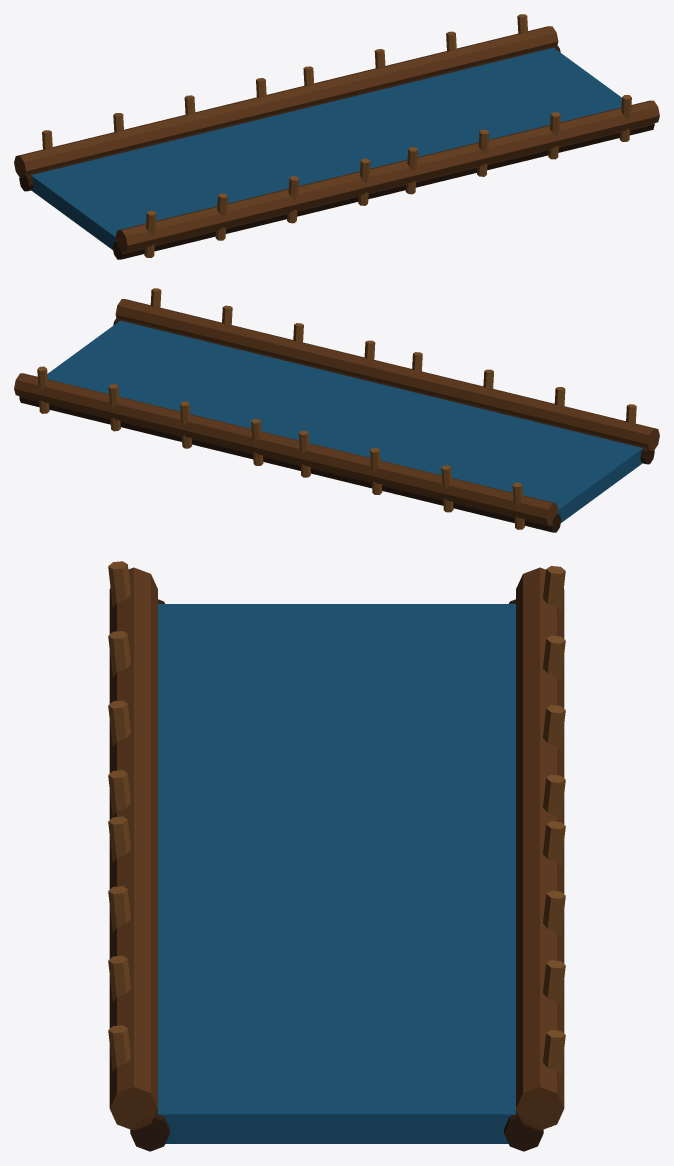
The model's file is ditch.glb.
3 renders of one model, top to bottom at view 1: azimuth 30°, elevation 25°; view 2: azimuth 150°, elevation 25°; view 3: azimuth 270°, elevation 25°, orthographic. The views are drawn at different scales.
Visible parts, largest first — view 1: 큐브, 실린더, 실린더.002, 실린더.001, 실린더.003; view 2: 큐브, 실린더.002, 실린더, 실린더.003, 실린더.001; view 3: 큐브, 실린더, 실린더.002, 실린더.001, 실린더.003.
Boxes of the visible parts, x1,y1,x2,y2 form: 큐브: (31, 47, 621, 249); 실린더: (115, 100, 659, 252); 실린더.002: (14, 26, 558, 177); 실린더.001: (112, 123, 654, 259); 실린더.003: (19, 45, 560, 191); 큐브: (47, 320, 642, 522); 실린더.002: (14, 373, 558, 525); 실린더: (115, 299, 659, 450); 실린더.003: (19, 396, 561, 532); 실린더.001: (113, 318, 654, 464); 큐브: (158, 604, 515, 1143); 실린더: (109, 567, 157, 1130); 실린더.002: (516, 567, 564, 1130); 실린더.001: (130, 599, 169, 1151); 실린더.003: (504, 599, 543, 1151).
Size of the model in its own units: 11.2 by 0.9367 by 4.17.
